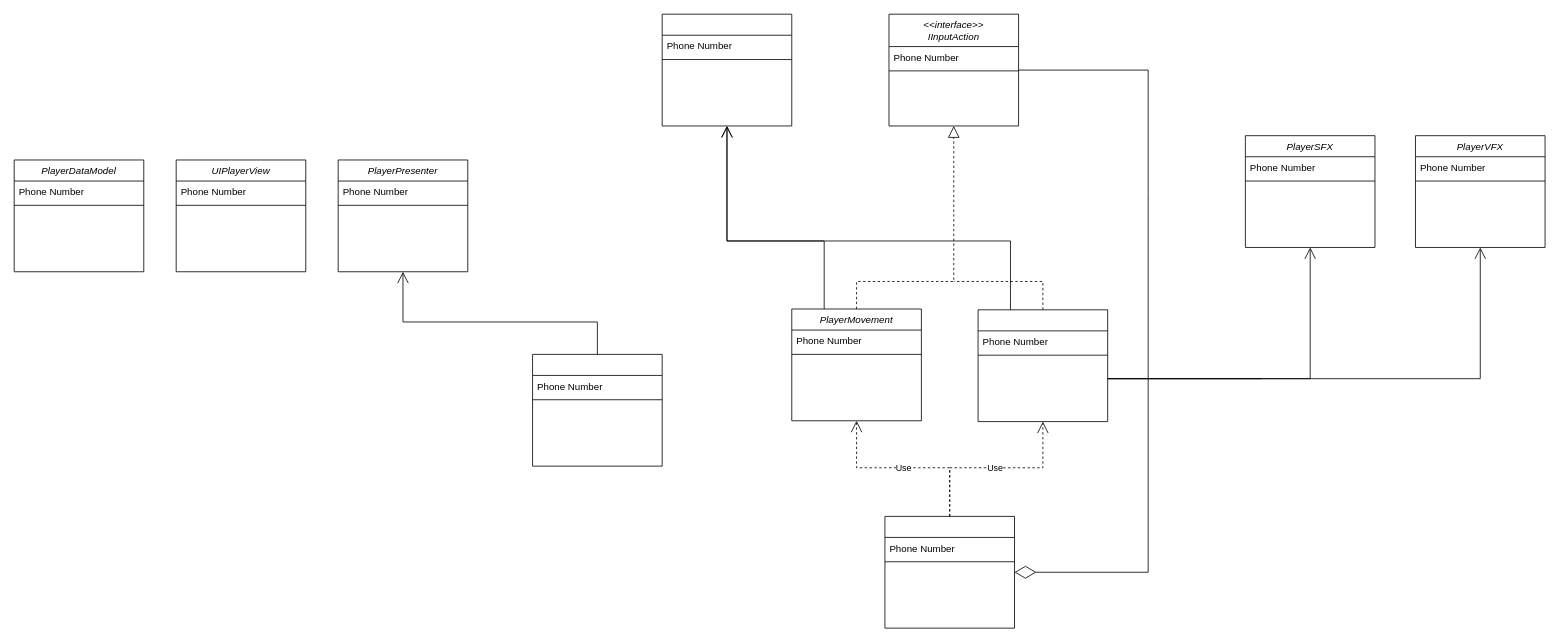
The diagram is 1559 pixels wide and 642 high, and some of its shapes have lost their labels. The box of each missing label's shape, as (x1, y1, x2, y2) in pixels:
Player: (532, 354, 662, 466)
PlayerAction: (884, 516, 1015, 628)
PlayerController: (661, 13, 792, 126)
PlayerFire: (977, 309, 1108, 422)
